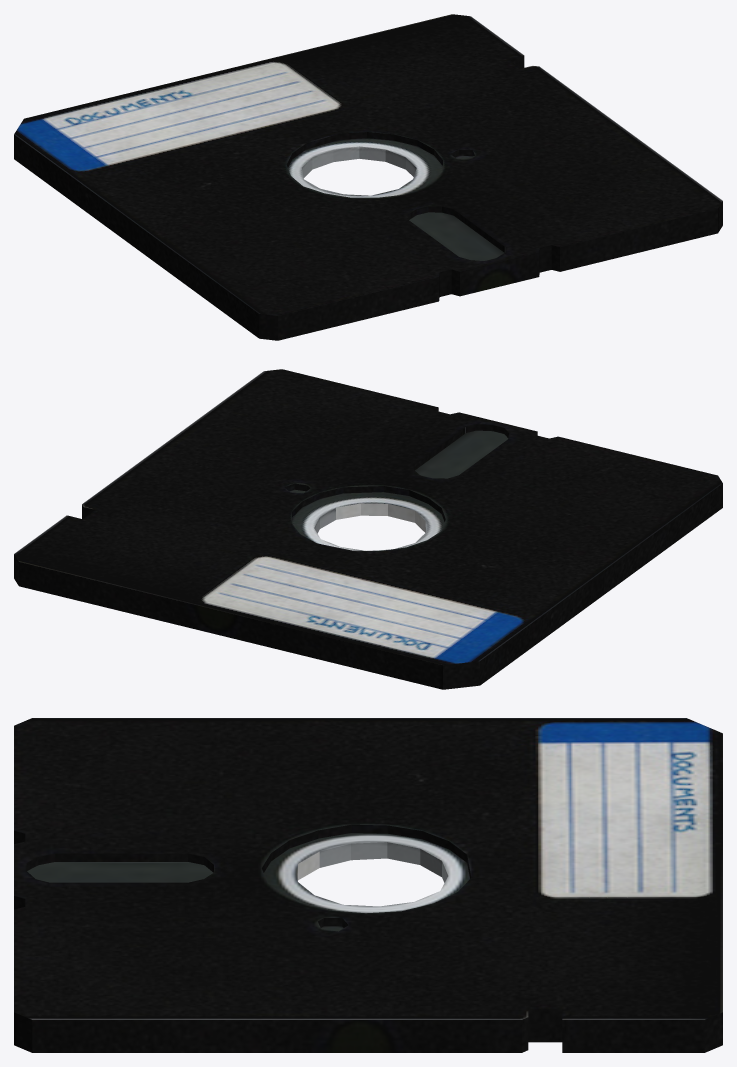
The picture shows the model from 3 angles, top to bottom: view 1: azimuth 30°, elevation 25°; view 2: azimuth 150°, elevation 25°; view 3: azimuth 270°, elevation 25°; orthographic projection. The views are drawn at different scales.
Visible parts, largest first — view 1: Sketchup; view 2: Sketchup; view 3: Sketchup.
Part boxes in pixels (left/top/right/bottom): Sketchup: left=14, top=14, right=722, bottom=340; Sketchup: left=14, top=369, right=722, bottom=689; Sketchup: left=14, top=718, right=722, bottom=1052.
Size of the model in its own units: 39.23 by 2 by 38.93.
Materials: 1 (1 with a texture image).
